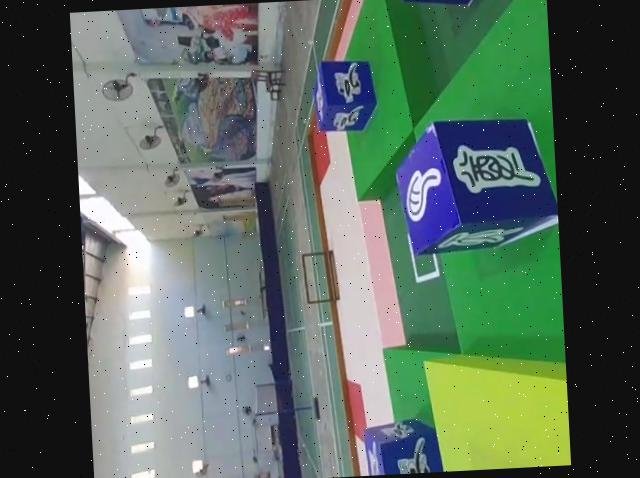R1 Blue: (312, 61, 380, 138), (365, 418, 451, 476)
R2 Fake Blue: (386, 115, 560, 258)
